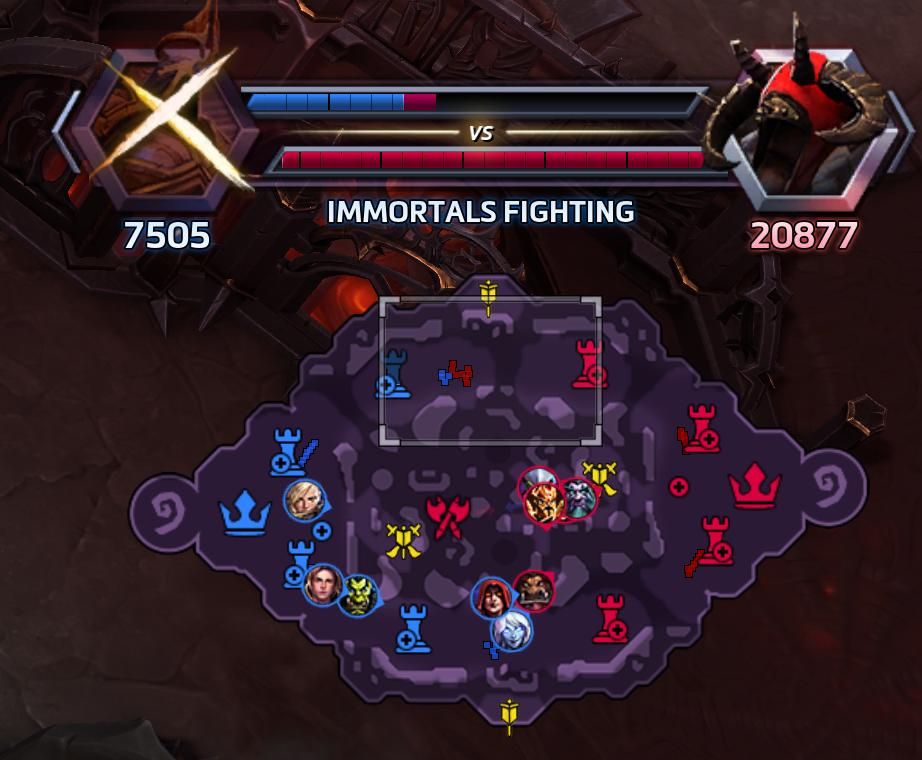blue nexus: (216, 486, 273, 537)
blue player: (282, 478, 327, 522), (336, 573, 381, 617), (301, 562, 345, 606), (491, 609, 534, 653), (470, 576, 512, 619)
blue tower: (271, 419, 306, 480), (374, 347, 411, 399), (394, 603, 431, 654), (282, 540, 316, 589)
red nexus: (723, 457, 791, 514)
red player: (521, 478, 562, 525), (512, 569, 555, 612), (516, 465, 557, 506), (561, 478, 597, 520)
red tower: (677, 400, 731, 460), (589, 591, 634, 647), (696, 514, 736, 567), (570, 337, 608, 389)
